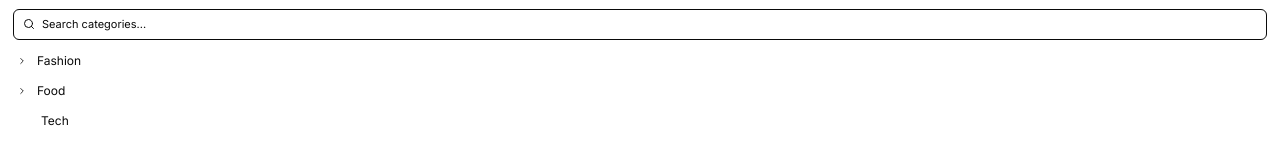
Scenario: NestedMultiselectFilter > search › typing filters to matching parent
Type "fashion" into the field with placeholder "Search categories..." at (640, 24), box [13,9,1267,40]
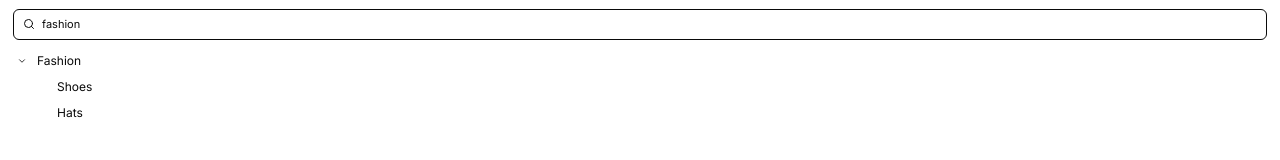
Expected: the text "Fashion" is shown, [37,52,81,68]
Now the button "Tech" is gone
